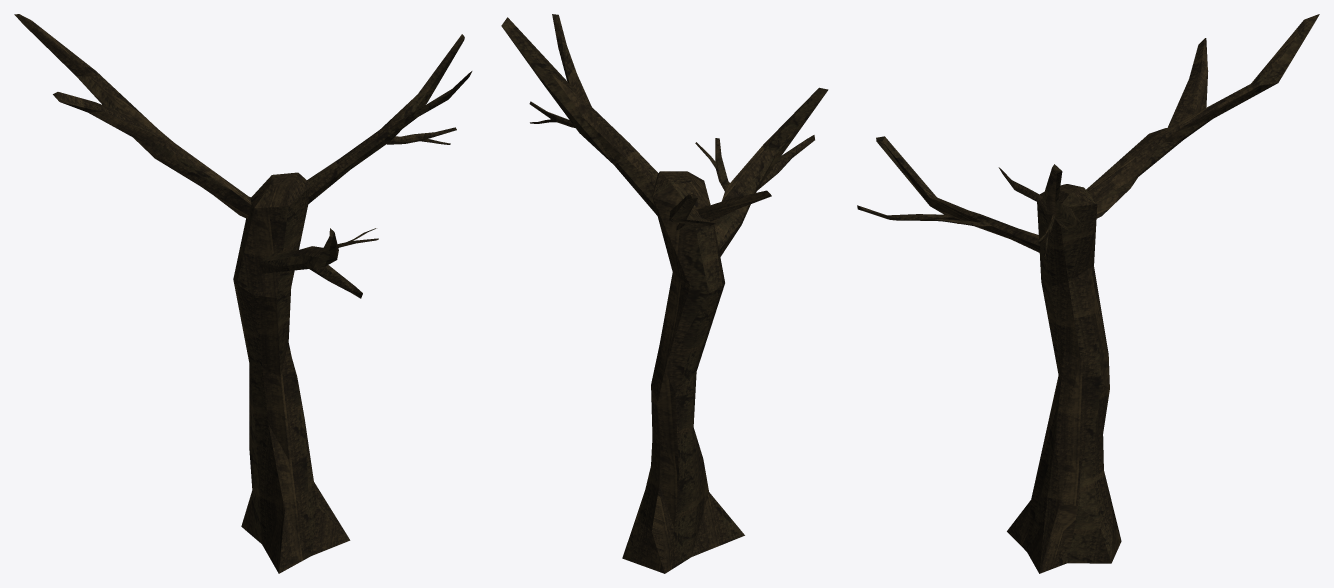
Rendered from MiddleTree_01.fbx.
3 views of the same model, side by side, from view 1: azimuth 30°, elevation 25°; view 2: azimuth 150°, elevation 25°; view 3: azimuth 270°, elevation 25° (orthographic). The views are drawn at different scales.
Parts seen in each view (by area): view 1: Cylinder.004; view 2: Cylinder.004; view 3: Cylinder.004.
Boxes of the visible parts, x1,y1,x2,y2 form: Cylinder.004: (14, 14, 472, 573); Cylinder.004: (501, 14, 828, 573); Cylinder.004: (857, 14, 1319, 573).
Bounding box in the file's own units: 223 × 299 × 268.
